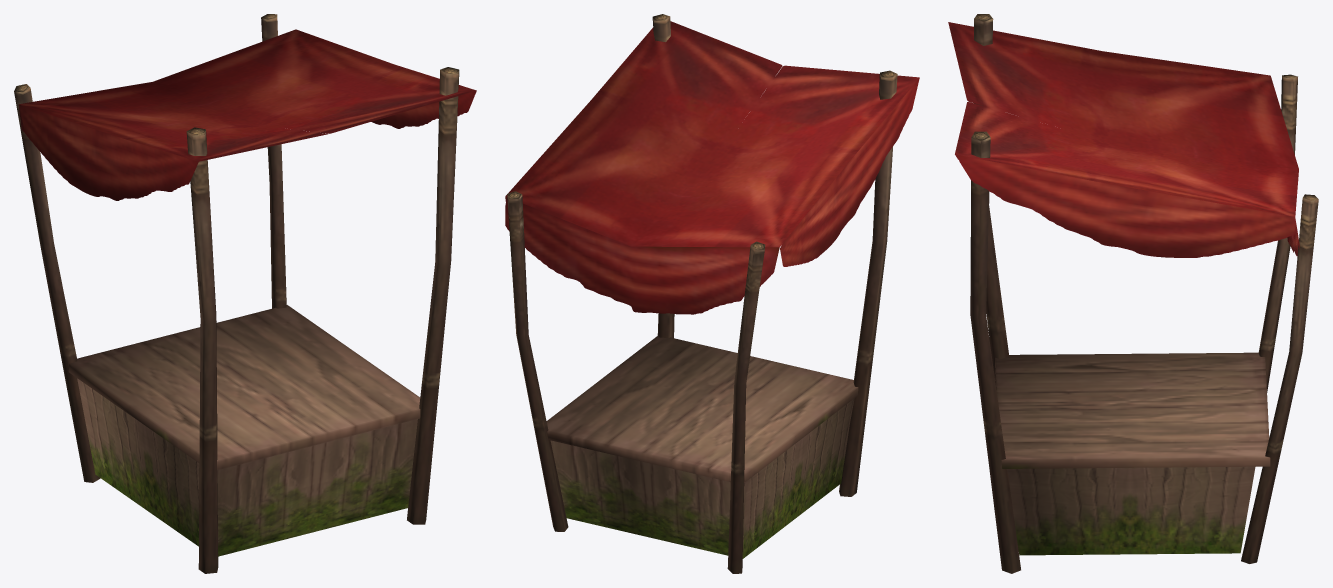
Rendered from Props_J.fbx.
3 views of the same model, side by side, from view 1: azimuth 30°, elevation 25°; view 2: azimuth 150°, elevation 25°; view 3: azimuth 270°, elevation 25° (orthographic). The views are drawn at different scales.
Visible parts, largest first — view 1: Props_J__2_, Props_J2; view 2: Props_J2, Props_J__2_; view 3: Props_J__2_, Props_J2.
Boxes of the visible parts, bbox=[...] form: Props_J__2_: bbox=[14, 14, 459, 573]; Props_J2: bbox=[18, 29, 476, 200]; Props_J2: bbox=[505, 21, 919, 314]; Props_J__2_: bbox=[507, 14, 897, 573]; Props_J__2_: bbox=[970, 14, 1318, 573]; Props_J2: bbox=[948, 22, 1299, 257].
Size of the model in its own units: 0.5395 by 0.8051 by 0.6108.
